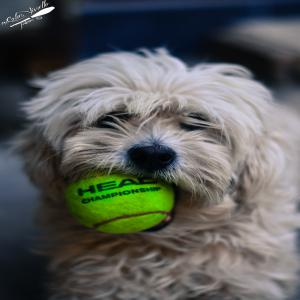TennisBall: (62, 174, 176, 235)
